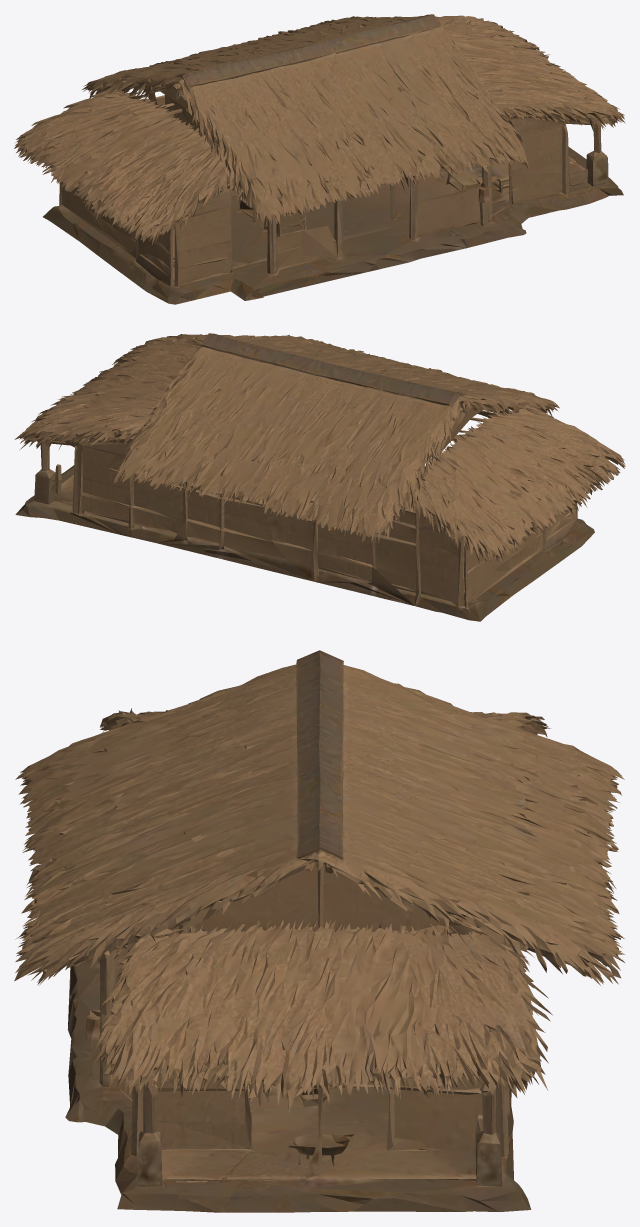
Rendered from house.glb.
3 views of the same model, one above another, from view 1: azimuth 30°, elevation 25°; view 2: azimuth 150°, elevation 25°; view 3: azimuth 270°, elevation 25° (orthographic). The views are drawn at different scales.
Visible parts, largest first — view 1: output_unwrapped; view 2: output_unwrapped; view 3: output_unwrapped.
Part boxes in pixels (box(x1,y1,x2,y2)): output_unwrapped: box(14, 14, 625, 304); output_unwrapped: box(14, 333, 625, 621); output_unwrapped: box(14, 650, 624, 1212).
Bounding box in the file's own units: 1.88 × 0.6017 × 1.25.
Materials: 1 (1 with a texture image).
